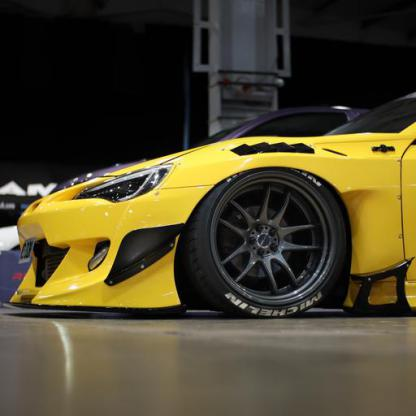Tire: (184, 159, 347, 320)
